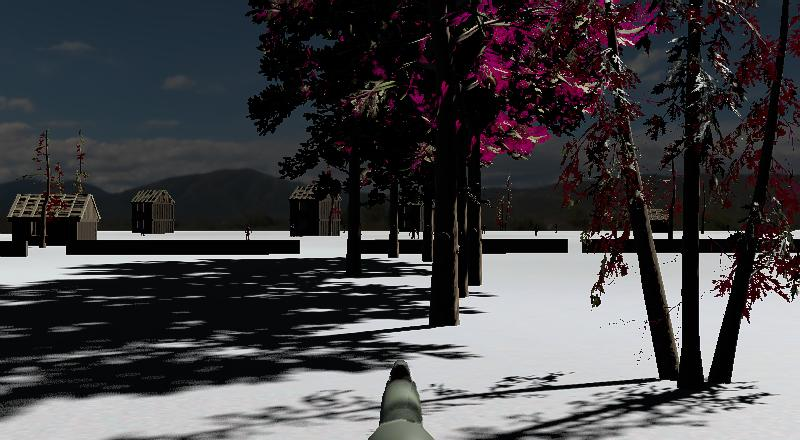House: (5, 184, 104, 254)
